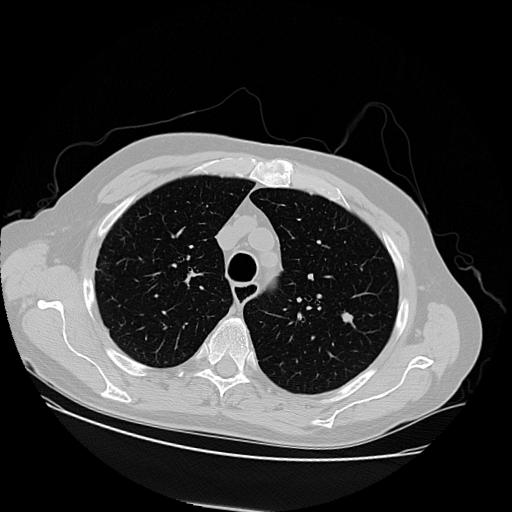nodule: (338, 308, 356, 326)
